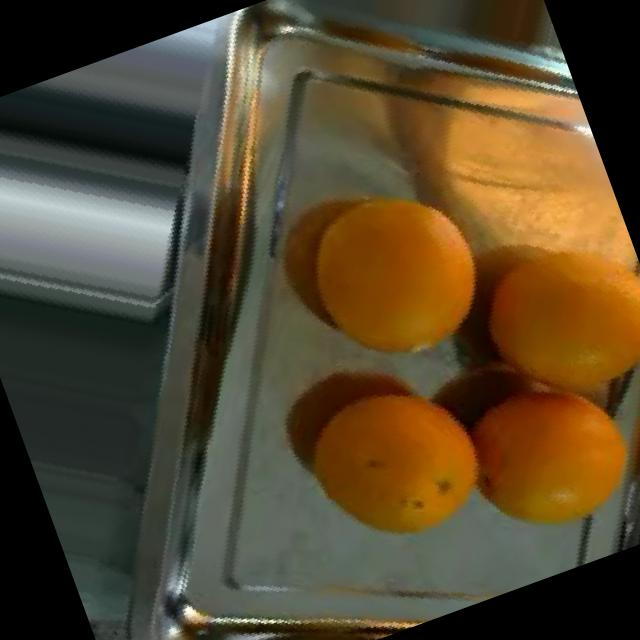Fruit: (397, 310, 640, 598)
